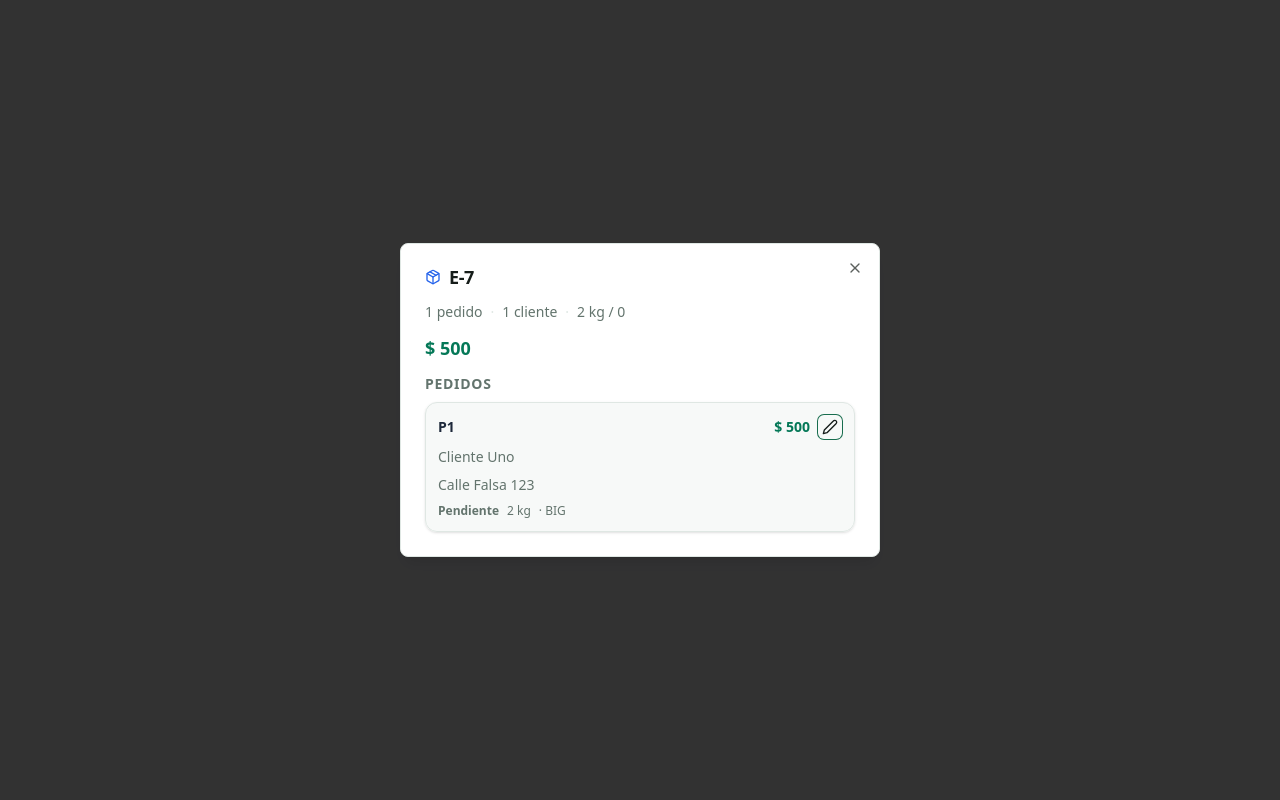
Test: PreparacionDetalleModal — edición de pedido › guarda la modificación y notifica
Click the button titled "Modificar reparto" at (830, 427), box [818, 415, 842, 439]
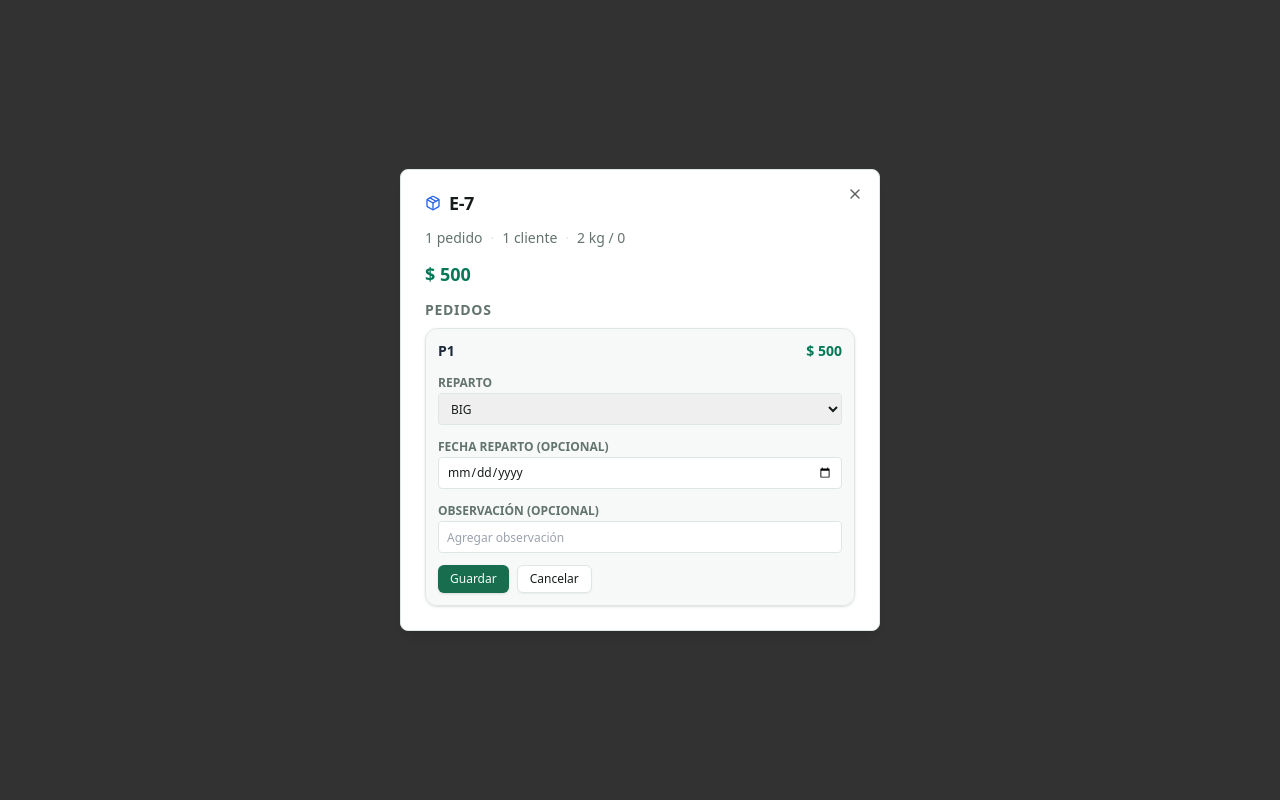
Select "PERI 5" in the dropdown at (640, 409), box [438, 393, 842, 425]
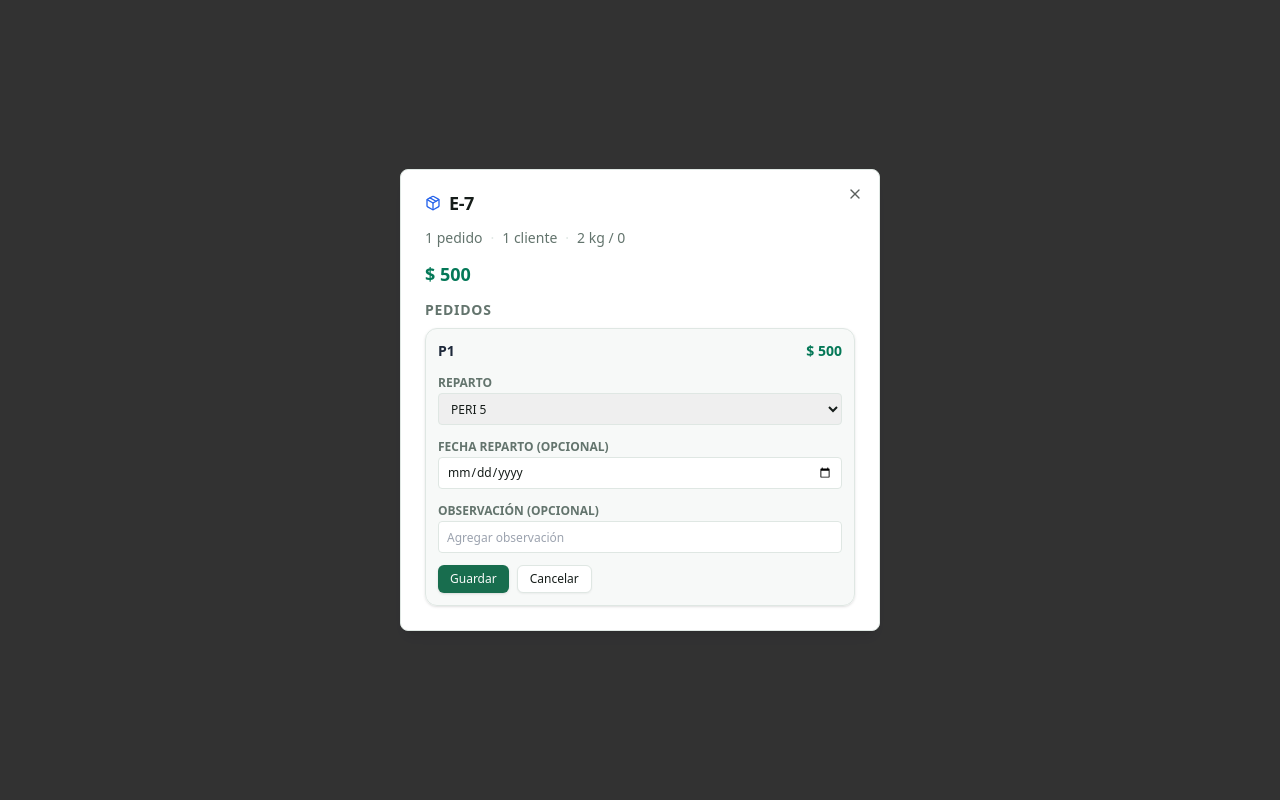
Click the button "Guardar" at (473, 579), box [438, 565, 509, 593]
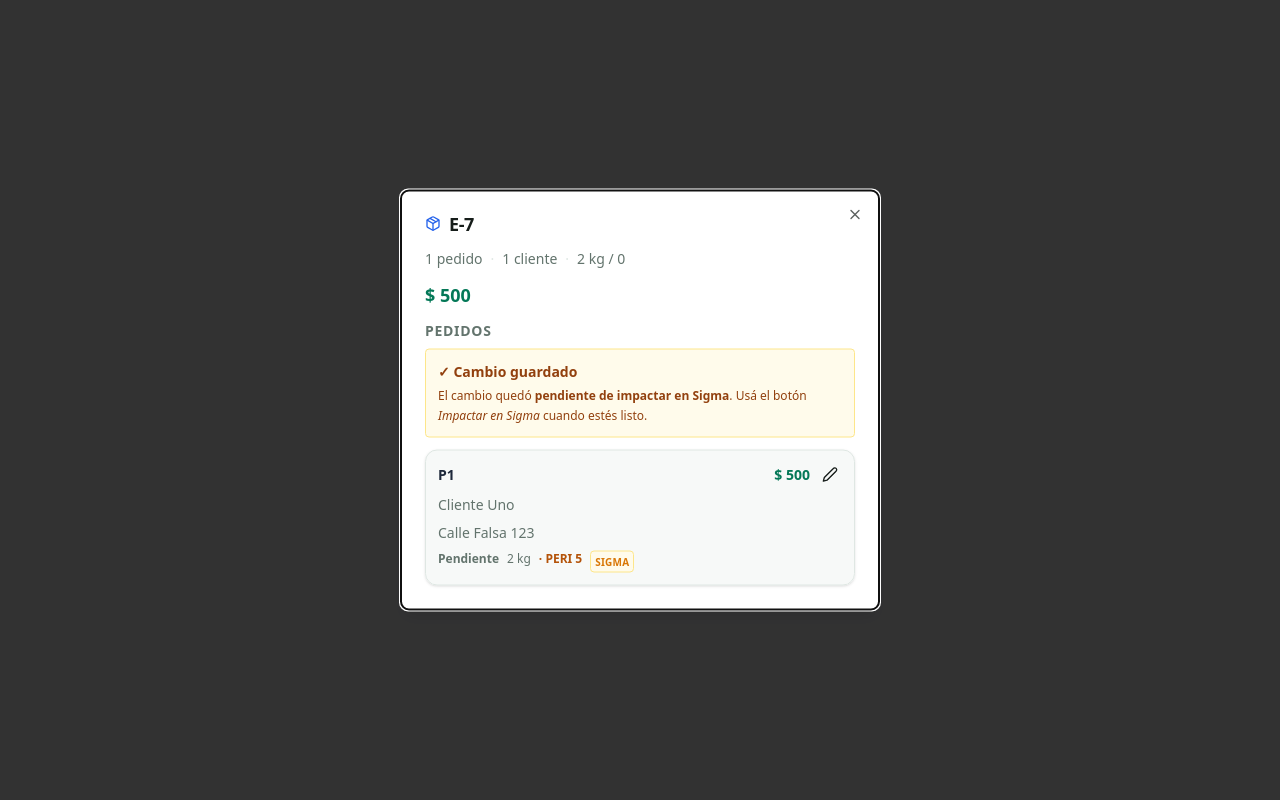
Result: the text "✓ Cambio guardado" is shown at [438, 362, 577, 380]
Result: the text "· PERI 5" is shown at [539, 550, 582, 572]
